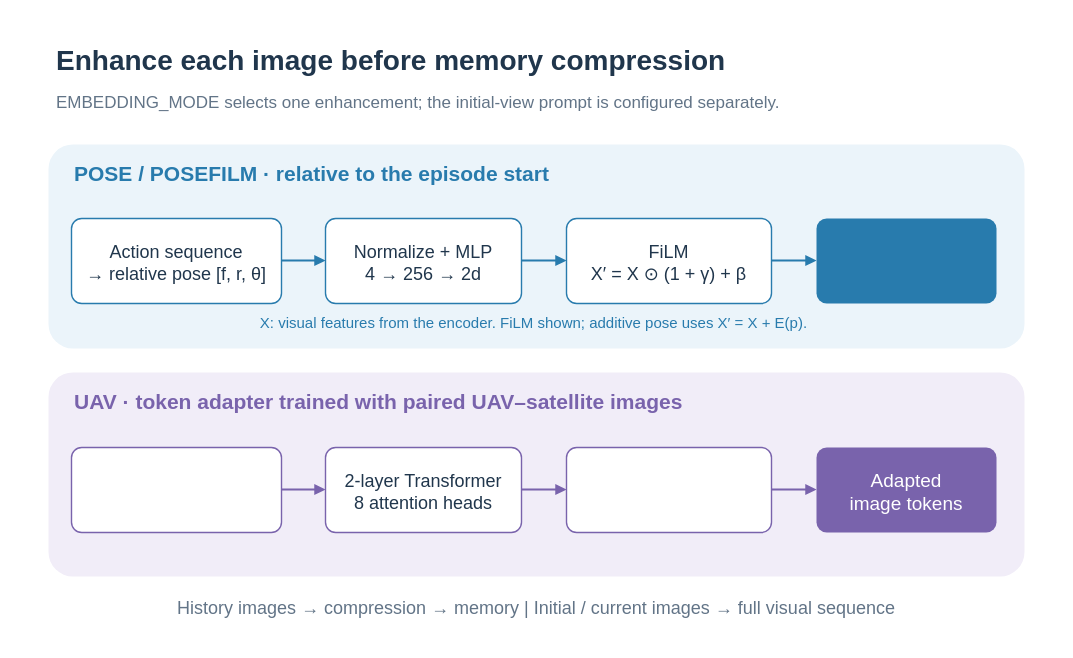
This 1073x658 diagram has some shape labels left out. Each missing label, with the box of its shape:
Enhanced image tokens: (816, 218, 996, 303)
Image tokens from the vision encoder: (70, 446, 282, 533)
Preserve token shape N × d → N × d: (565, 446, 772, 533)
